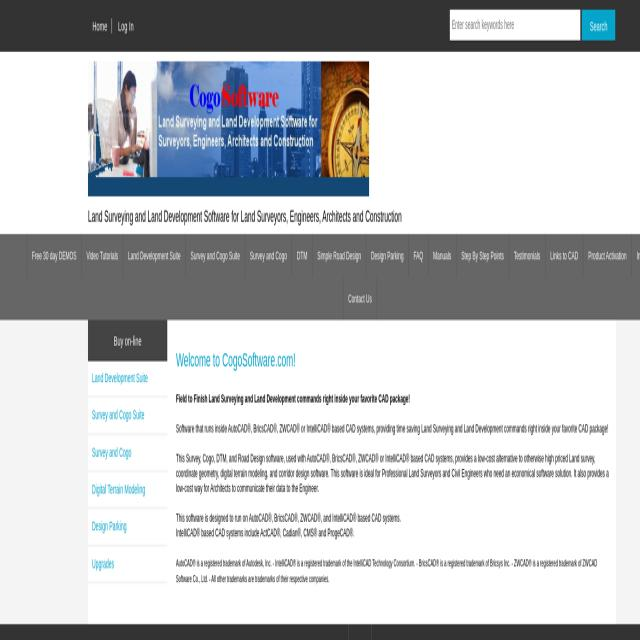button: (88, 62, 369, 196), (88, 319, 167, 360), (123, 234, 185, 278), (88, 398, 167, 432), (88, 362, 167, 395), (88, 436, 167, 469), (88, 473, 167, 506), (88, 510, 167, 543), (88, 547, 166, 580), (186, 234, 244, 278), (27, 234, 81, 278), (312, 234, 366, 278), (457, 234, 509, 278), (584, 234, 631, 280), (245, 234, 291, 278), (366, 234, 408, 278), (81, 234, 122, 278), (545, 234, 583, 278), (509, 234, 545, 278), (343, 277, 377, 321), (428, 234, 456, 278), (582, 10, 615, 41), (292, 234, 312, 278), (408, 234, 428, 278), (631, 234, 640, 279)
field: (450, 10, 580, 42)
